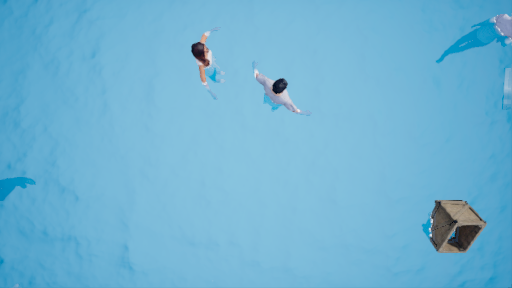person: (186, 31, 240, 99), (251, 62, 305, 114)
